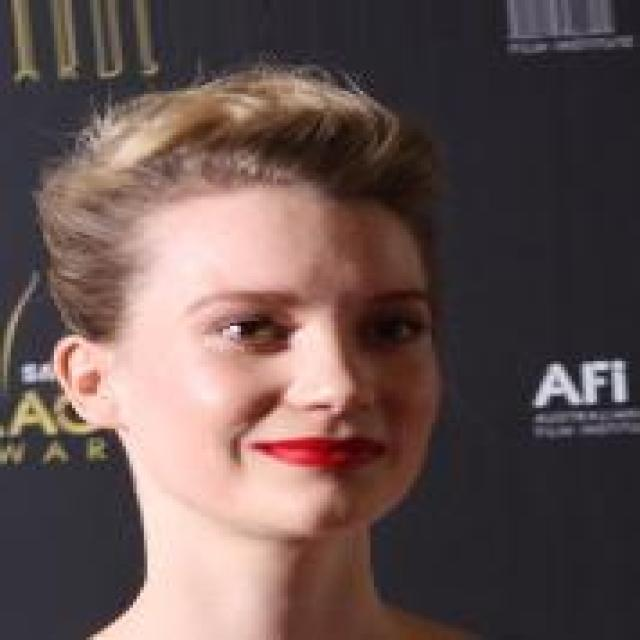bareface: (32, 69, 452, 559)
